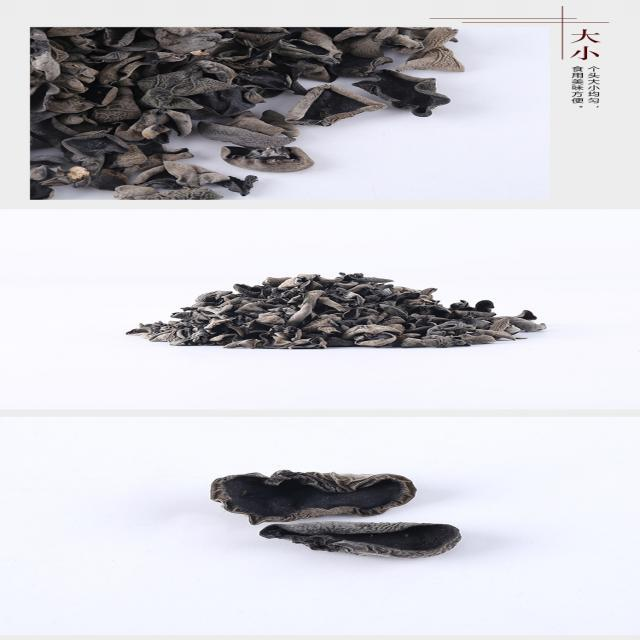Auricularia auricula: (29, 28, 465, 199), (126, 266, 550, 350), (209, 465, 420, 523), (271, 519, 464, 557)
